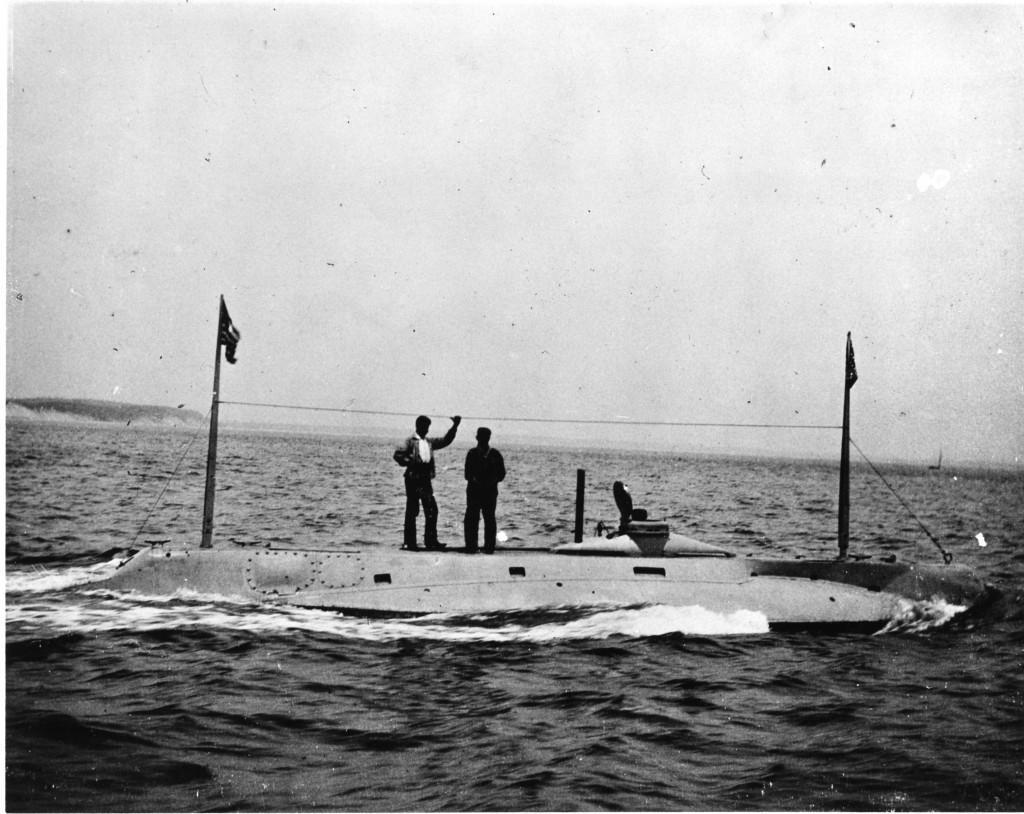Submarine: (28, 476, 1024, 718)
